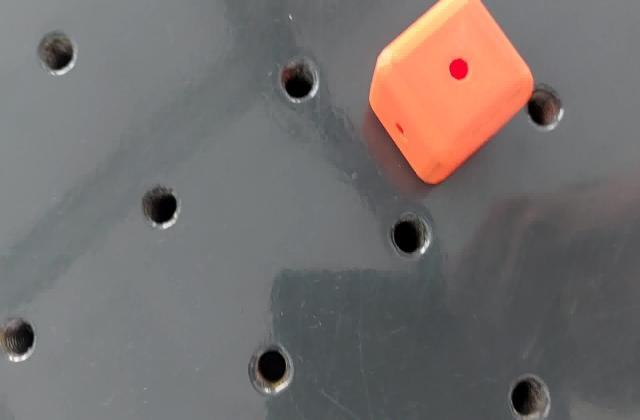cube: (367, 2, 534, 190)
